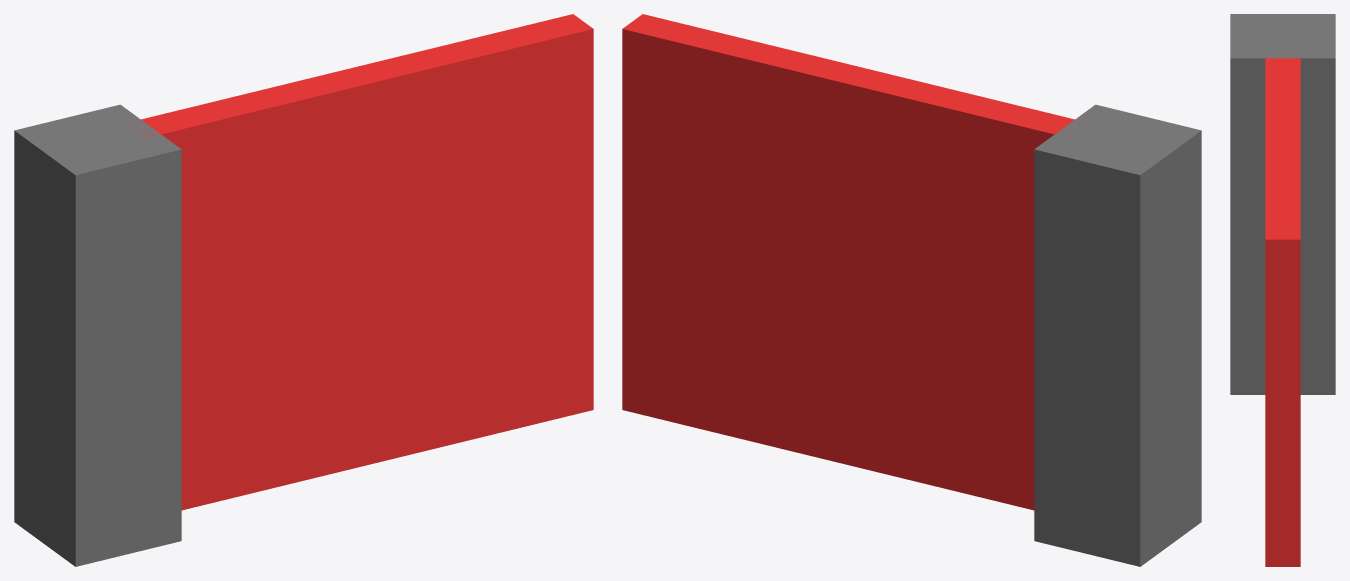
The model's file is Zwischenwand.fbx.
The picture shows the model from 3 angles, left to right: view 1: azimuth 30°, elevation 25°; view 2: azimuth 150°, elevation 25°; view 3: azimuth 270°, elevation 25°; orthographic projection. The views are drawn at different scales.
Parts seen in each view (by area): view 1: Box013, Box012; view 2: Box013, Box012; view 3: Box012, Box013.
Boxes of the visible parts, x1,y1,x2,y2 form: Box013: [136, 14, 593, 510]; Box012: [14, 104, 181, 566]; Box013: [622, 14, 1076, 510]; Box012: [1034, 104, 1201, 566]; Box012: [1230, 14, 1335, 394]; Box013: [1265, 52, 1300, 566].
Bounding box in the file's own units: 30.45 × 21.17 × 6.
